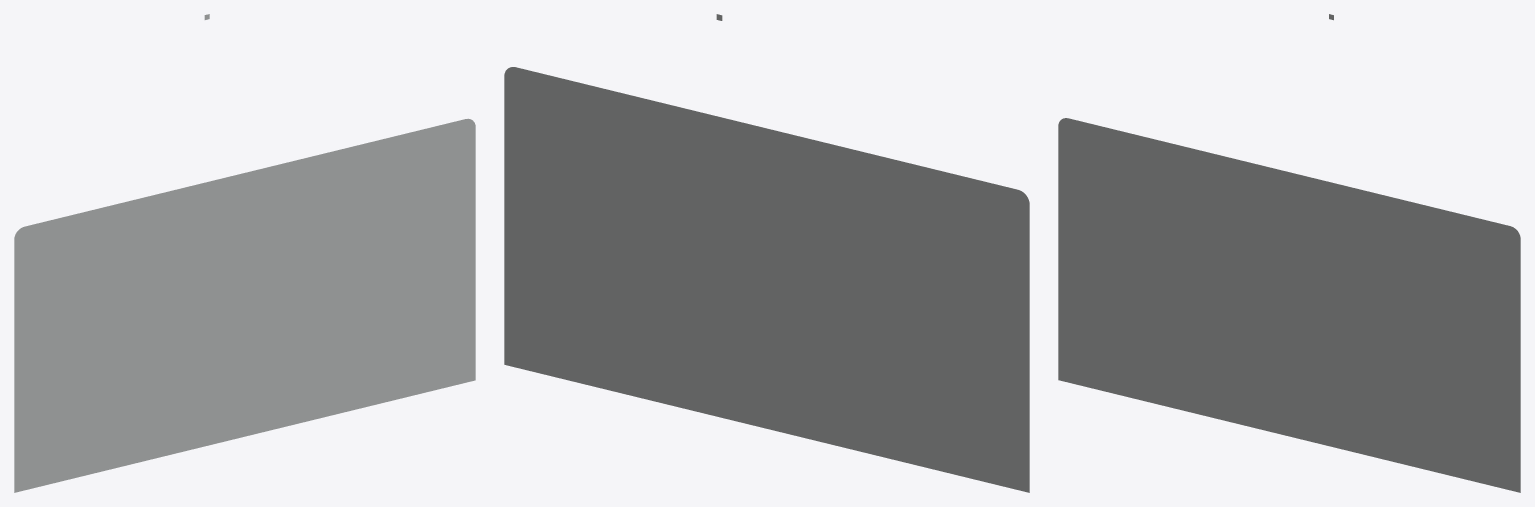
The model's file is MainMeshLaptop_20_1_GeomSubset_2.obj.
3 views of the same model, side by side, from view 1: azimuth 30°, elevation 25°; view 2: azimuth 150°, elevation 25°; view 3: azimuth 330°, elevation 25° (orthographic). The views are drawn at different scales.
Parts seen in each view (by area): view 1: MainMeshLaptop_20_1_GeomSubset_2; view 2: MainMeshLaptop_20_1_GeomSubset_2; view 3: MainMeshLaptop_20_1_GeomSubset_2.
Part boxes in pixels (x1,y1,x2,y2): MainMeshLaptop_20_1_GeomSubset_2: (14,14,475,492); MainMeshLaptop_20_1_GeomSubset_2: (504,14,1029,492); MainMeshLaptop_20_1_GeomSubset_2: (1058,14,1520,492).
Bounding box in the file's own units: 0.1197 × 0.0973 × 0.0179.
